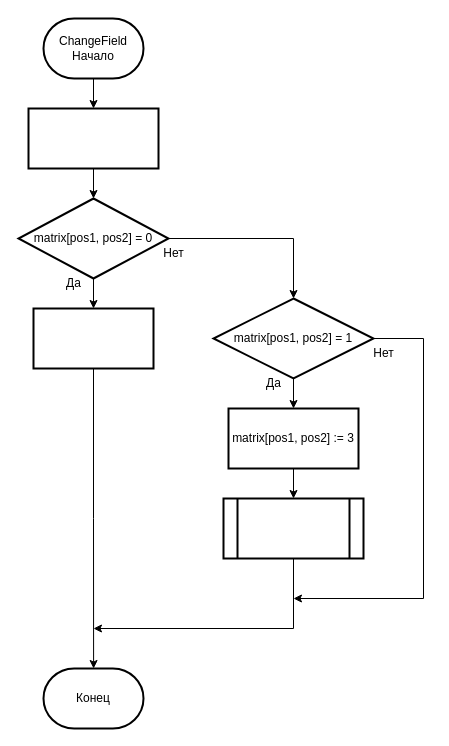
The diagram is 449 pixels wide and 746 high, and some of its shapes have lost their labels. The centre of each missing label's shape, as x and y in pixels:
"IfKilled(matrix, ship_mas, cords)" goes at pixel 293 528.
"matrix[pos1, pos2] := 2" goes at pixel 93 338.
"pos1 := ord(cords[1]) pos2 := ord(cords[2])" goes at pixel 93 138.
